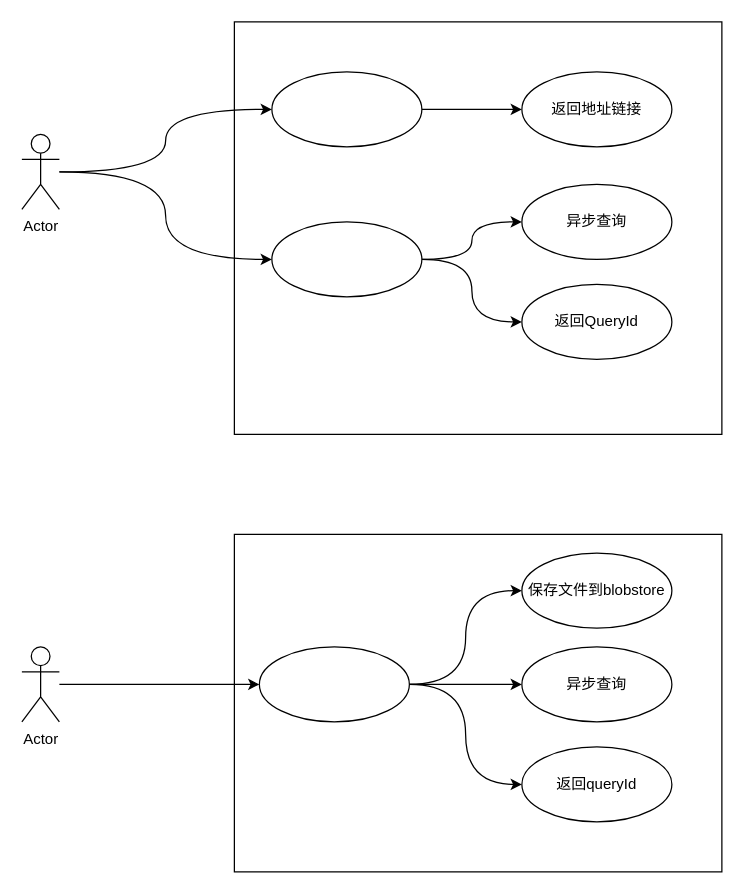
The diagram is 744 pixels wide and 894 high, and some of its shapes have lost their labels. The box of each missing label's shape, as (x1, y1, x2, y2) in pixels:
上传文件: (271, 71, 422, 147)
上传查询参数: (258, 646, 409, 722)
上传查询参数（携带数据地址）: (271, 221, 422, 297)
